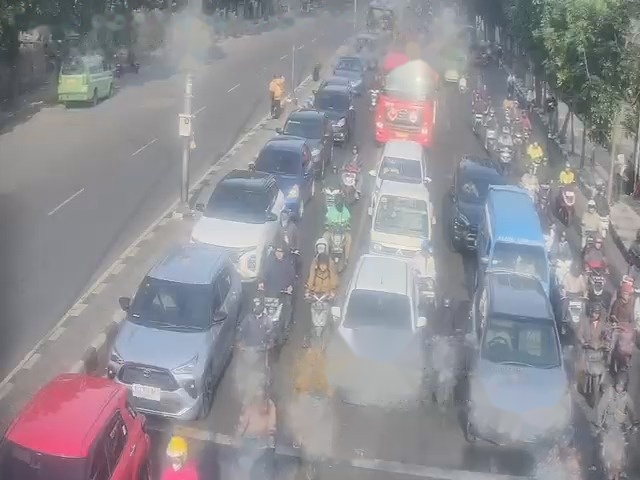Mobil: (123, 245, 234, 421), (6, 380, 145, 477), (479, 272, 557, 441), (341, 257, 419, 392), (195, 169, 275, 279), (484, 187, 542, 276), (372, 182, 433, 262), (253, 129, 316, 198), (455, 152, 501, 233), (310, 67, 356, 134), (372, 140, 423, 190), (288, 101, 329, 156)
Motor: (299, 396, 338, 480), (235, 342, 262, 395), (609, 331, 633, 369), (324, 220, 344, 261), (587, 269, 606, 312), (586, 342, 605, 383), (244, 429, 261, 474), (264, 289, 284, 327), (434, 341, 449, 389), (286, 180, 302, 222), (309, 288, 326, 326), (566, 292, 583, 328), (604, 433, 618, 469), (340, 163, 355, 195), (560, 188, 578, 211), (534, 179, 550, 204), (512, 129, 530, 151), (596, 215, 613, 238), (322, 183, 334, 212), (559, 260, 571, 288), (470, 104, 482, 130), (544, 224, 554, 252), (587, 231, 598, 251), (486, 124, 496, 145), (501, 146, 511, 166)
Truk: (374, 53, 440, 143)
